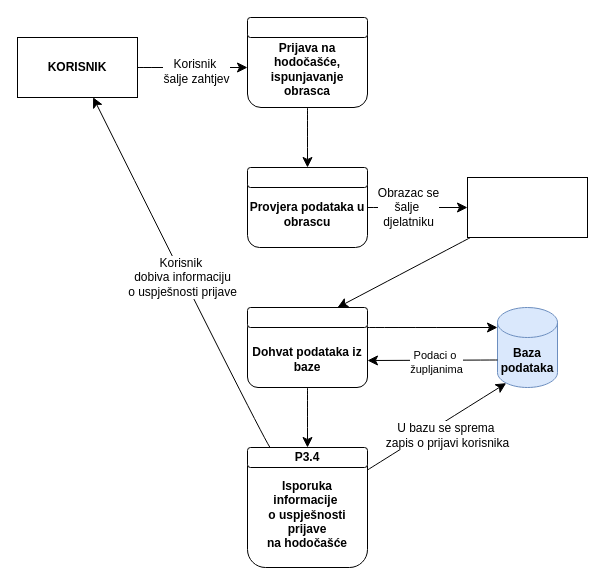
The diagram is 605 pixels wide and 585 high, and some of its shapes have lost their labels. The shapes that lost their labels are listed below. From the top down, each one's centre as x and y in pixels, then its label:
At point (307, 27): "P3.1".
At point (307, 177): "P3.2".
At point (527, 207): "DJELATNIK".
At point (307, 317): "P3.3".
